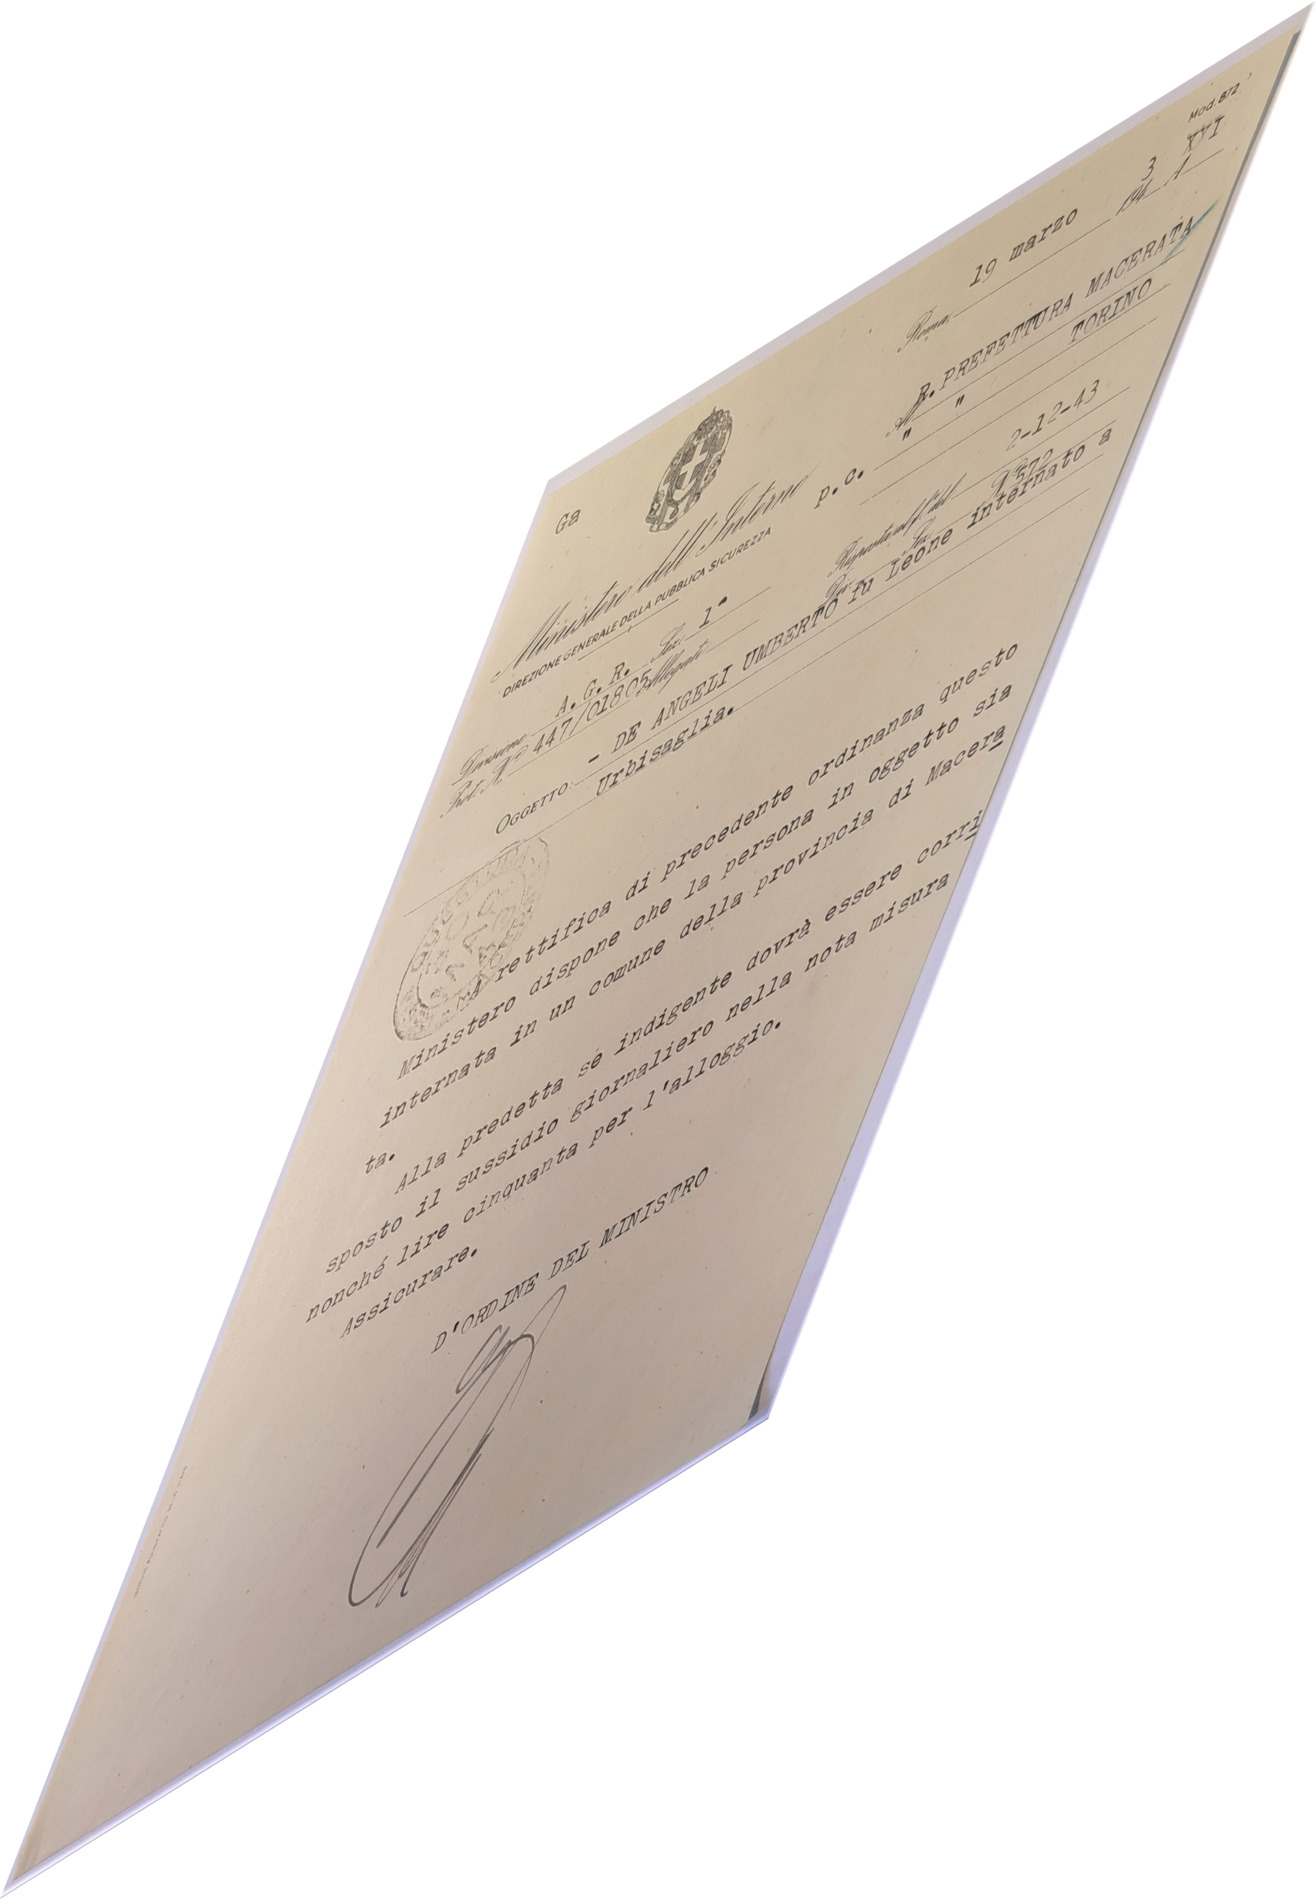stamp: (385, 843, 570, 1048)
